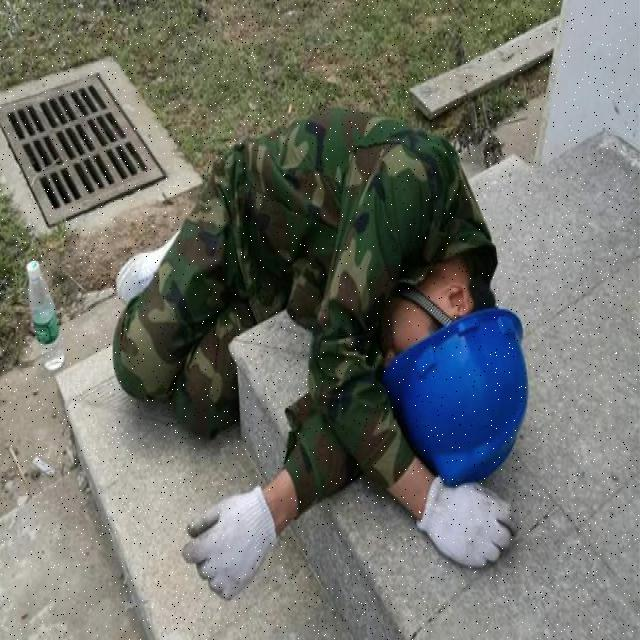Hard_hat: (382, 309, 532, 489)
